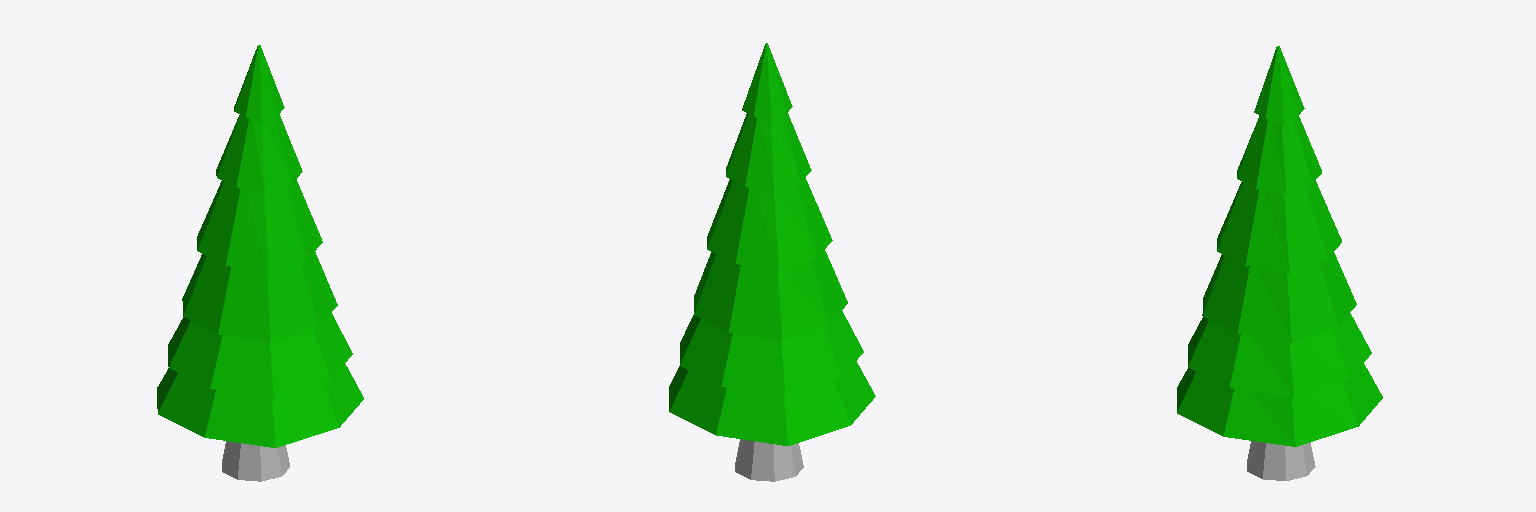
The model's file is lowpolytree.obj.
3 views of the same model, side by side, from view 1: azimuth 30°, elevation 25°; view 2: azimuth 150°, elevation 25°; view 3: azimuth 270°, elevation 25° (orthographic).
Visible parts, largest first — view 1: Cylinder; view 2: Cylinder; view 3: Cylinder.
Boxes of the visible parts, <box> form: Cylinder: <box>157,45,363,481</box>; Cylinder: <box>669,43,875,481</box>; Cylinder: <box>1177,46,1382,480</box>.
Bounding box in the file's own units: 2.31 × 5.12 × 2.28.